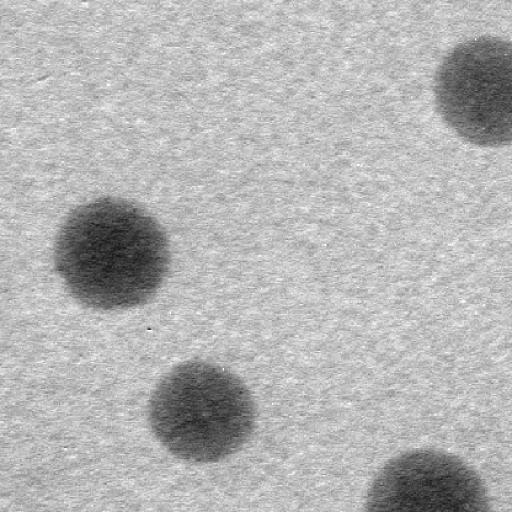Nanoparticles: (50, 190, 174, 314), (144, 351, 260, 470), (431, 30, 512, 152), (358, 442, 490, 512)
